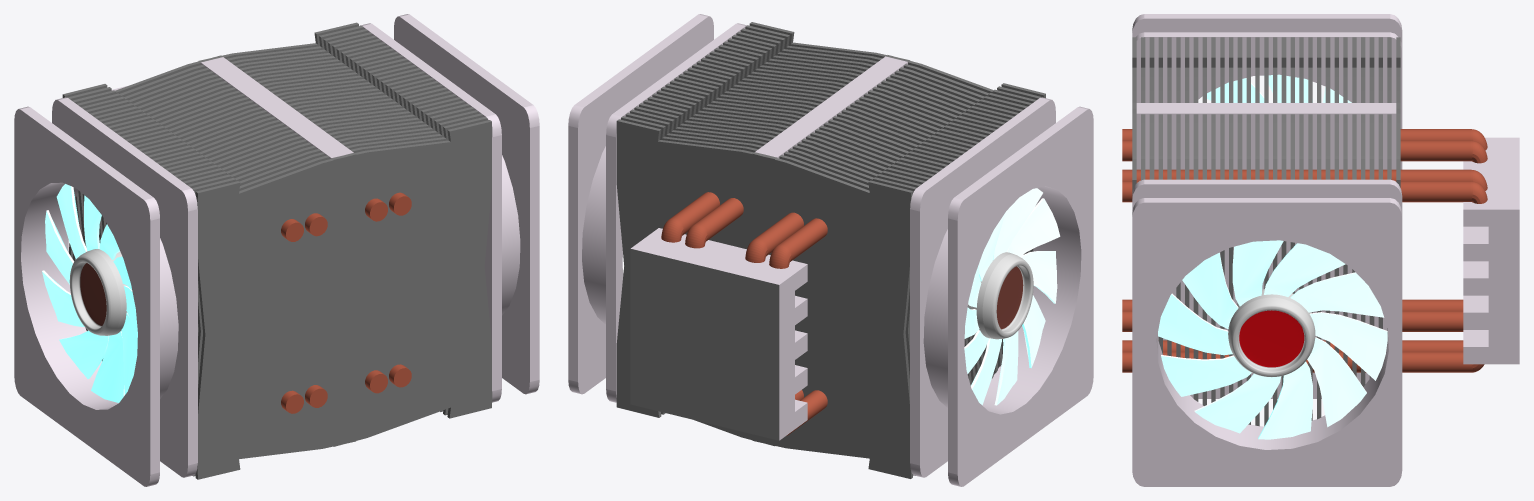
The model's file is CPU Cooler.fbx.
3 views of the same model, side by side, from view 1: azimuth 30°, elevation 25°; view 2: azimuth 150°, elevation 25°; view 3: azimuth 270°, elevation 25° (orthographic).
Parts seen in each view (by area): view 1: Plane.014; view 2: Plane.014; view 3: Plane.014.
Part boxes in pixels (x1,y1,x2,y2): Plane.014: (14,14,539,486); Plane.014: (568,14,1093,486); Plane.014: (1122,14,1519,486).
Size of the model in its own units: 82.73 by 58.28 by 73.62.
